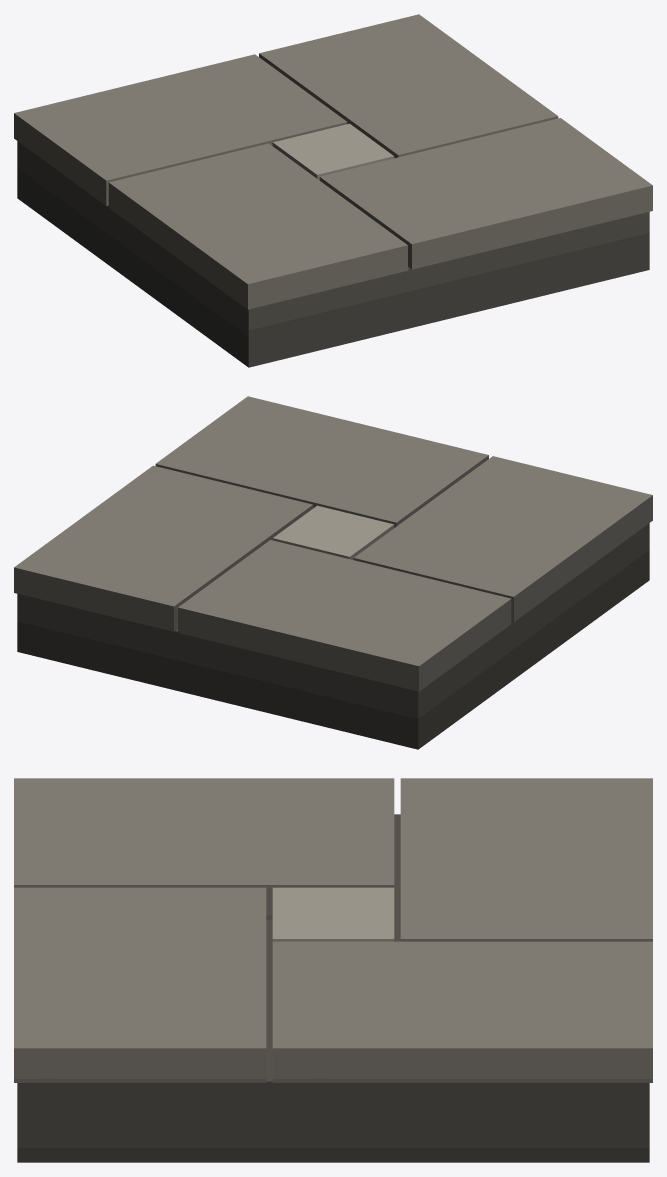
File: foundation_stone.glb
3 renders of one model, top to bottom at view 1: azimuth 30°, elevation 25°; view 2: azimuth 150°, elevation 25°; view 3: azimuth 270°, elevation 25°, orthographic. The views are drawn at different scales.
Bounding box in the file's own units: 1 × 0.2 × 1.
Materials: 1 (1 with a texture image).
